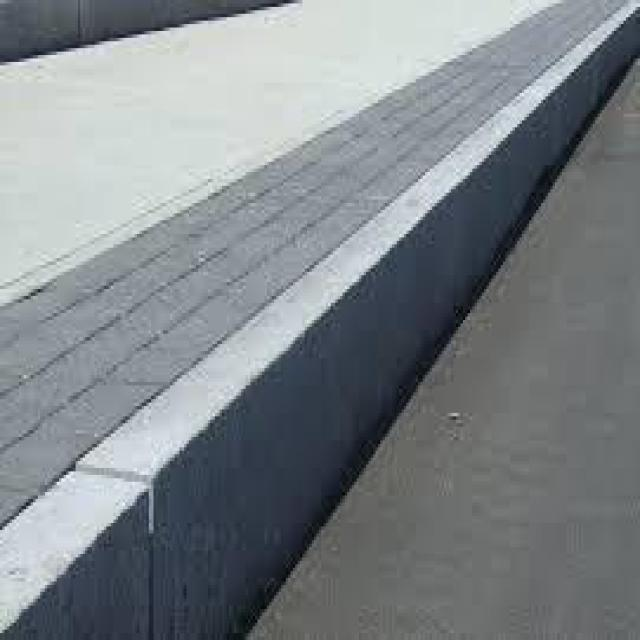curb: (79, 121, 517, 640)
